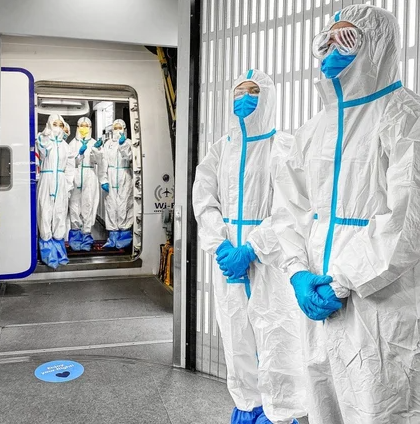Coverall: (283, 5, 420, 424), (191, 67, 298, 409), (100, 119, 137, 238), (35, 114, 69, 243), (66, 114, 99, 235)
Gloves: (290, 272, 335, 319), (216, 245, 257, 279)
Goggles: (308, 24, 369, 57)
with_mask: (317, 24, 362, 79), (230, 81, 261, 118), (77, 121, 91, 137)
